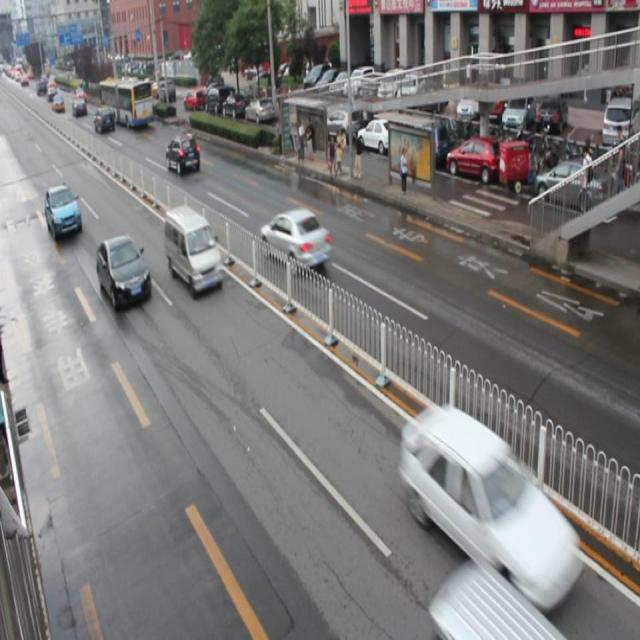car: (402, 407, 572, 610), (259, 209, 331, 271), (96, 234, 152, 309), (44, 183, 82, 240), (164, 133, 201, 175)
truck: (164, 206, 224, 296)
